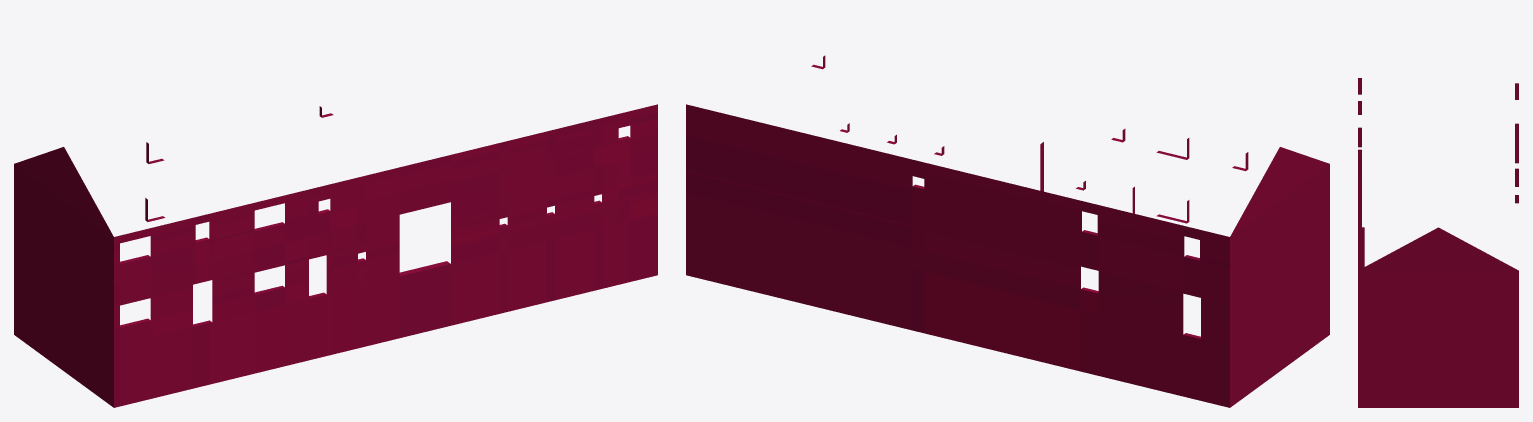
File: SM_Bld_209_Masonry.glb
3 views of the same model, side by side, from view 1: azimuth 30°, elevation 25°; view 2: azimuth 150°, elevation 25°; view 3: azimuth 270°, elevation 25° (orthographic). The views are drawn at different scales.
Parts seen in each view (by area): view 1: SM_Bld_209_Masonry; view 2: SM_Bld_209_Masonry; view 3: SM_Bld_209_Masonry.
Boxes of the visible parts, box(x1,y1,x2,y2) form: SM_Bld_209_Masonry: box(14, 104, 657, 407); SM_Bld_209_Masonry: box(686, 55, 1329, 407); SM_Bld_209_Masonry: box(1358, 78, 1518, 407).
Bounding box in the file's own units: 27.64 × 10.91 × 8.8.
